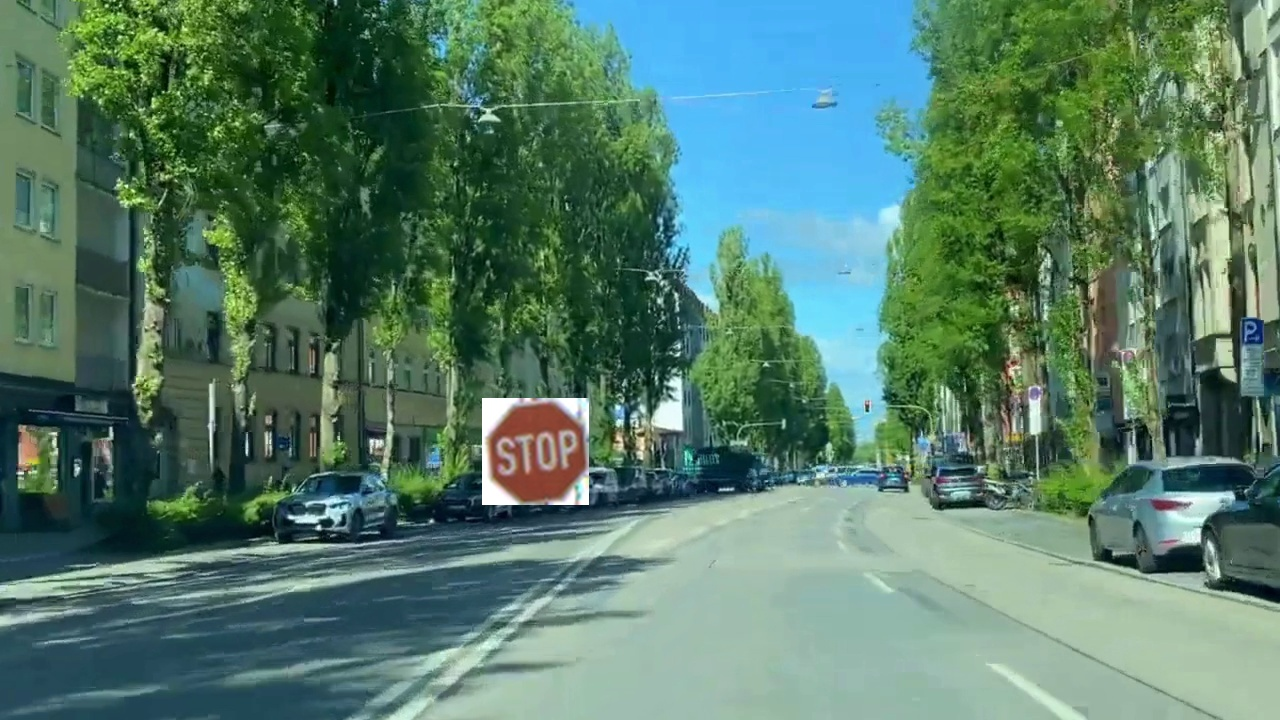Stop: (482, 398, 589, 505)
